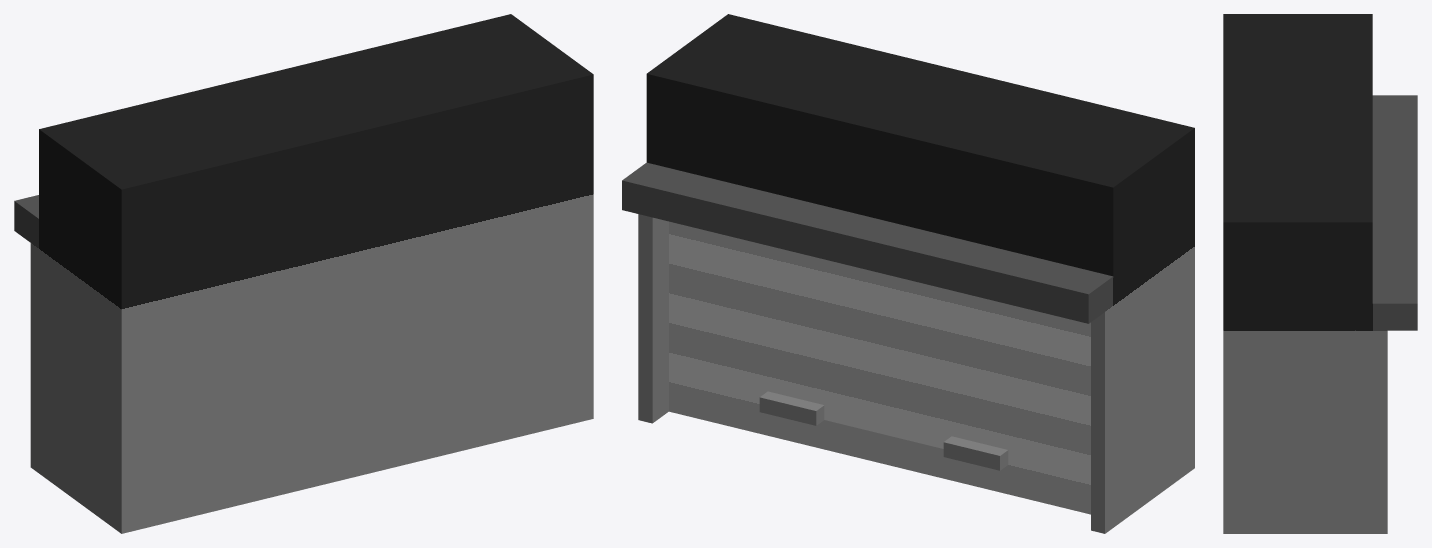
Rendered from obj_store9.dae.
3 renders of one model, left to right at view 1: azimuth 30°, elevation 25°; view 2: azimuth 150°, elevation 25°; view 3: azimuth 270°, elevation 25°, orthographic. The views are drawn at different scales.
Visible parts, largest first — view 1: obj_store9; view 2: obj_store9; view 3: obj_store9.
Part boxes in pixels (x1,y1,x2,y2): obj_store9: (14, 14, 593, 533); obj_store9: (622, 14, 1194, 533); obj_store9: (1223, 14, 1417, 533).
Bounding box in the file's own units: 3.3 × 1.3 × 2.3.
Materials: 1 (1 with a texture image).
